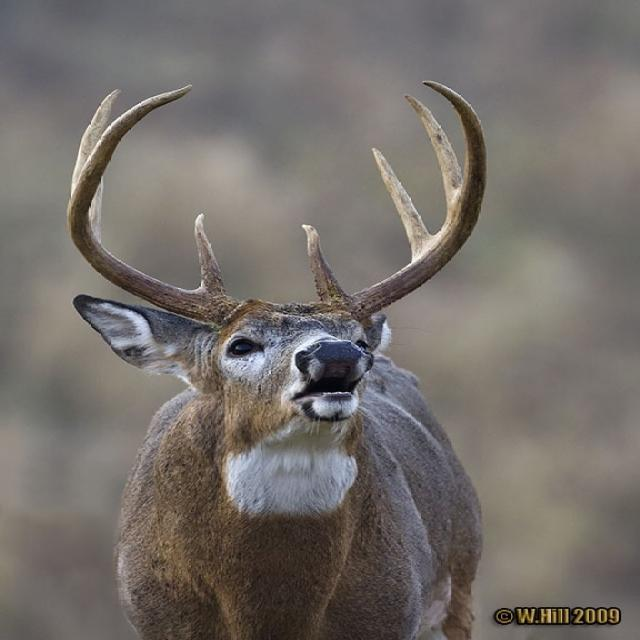L-F: (353, 81, 487, 316)
L-G1: (301, 223, 347, 301)
L-G2: (374, 148, 430, 258)
L-G3: (406, 94, 463, 212)
R-F: (67, 84, 236, 329)
R-G1: (194, 212, 228, 295)
